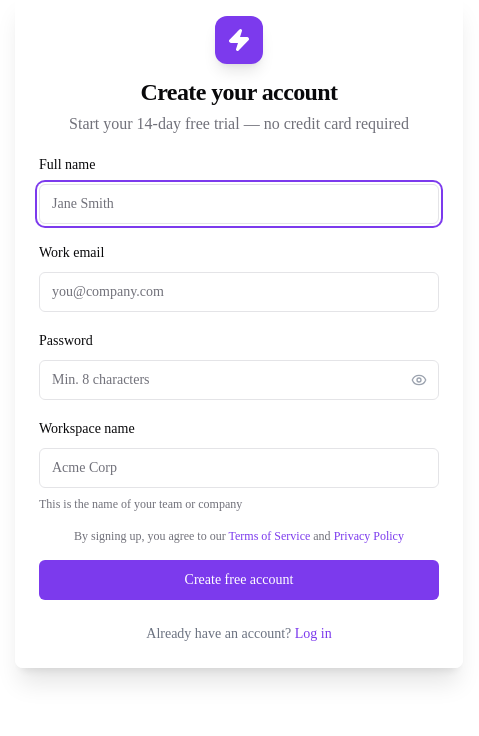
Test: SignupPage › shows "Strong password" label for a strong password
The width and height of the screenshot is (479, 736).
Type "Str0ng!Pass#2024" into the password field labelled "Password" at (239, 380), box [39,360,439,400]
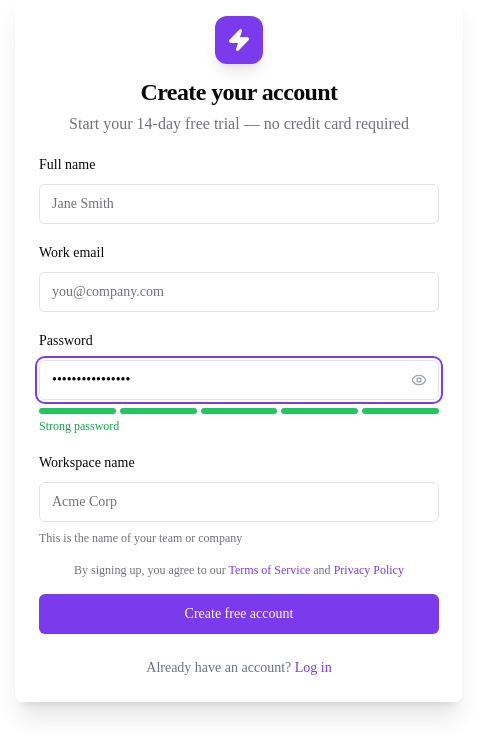
Expected: the text "Strong password" is shown, [39,419,119,433]
